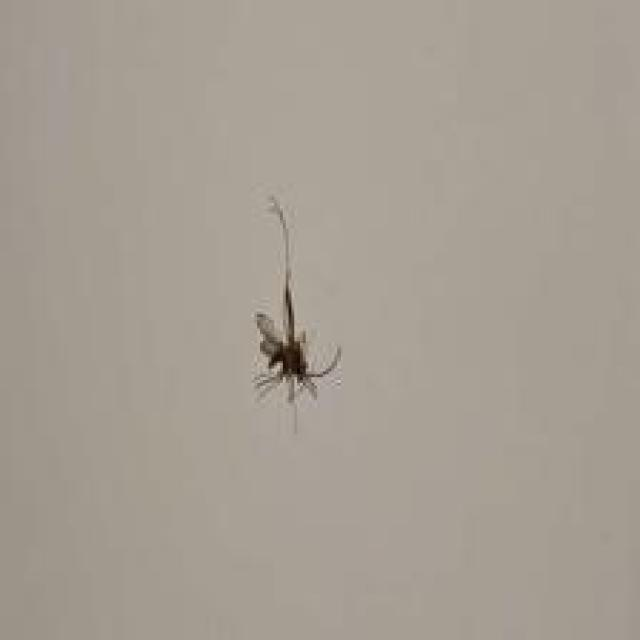Culex: (250, 193, 341, 433)
